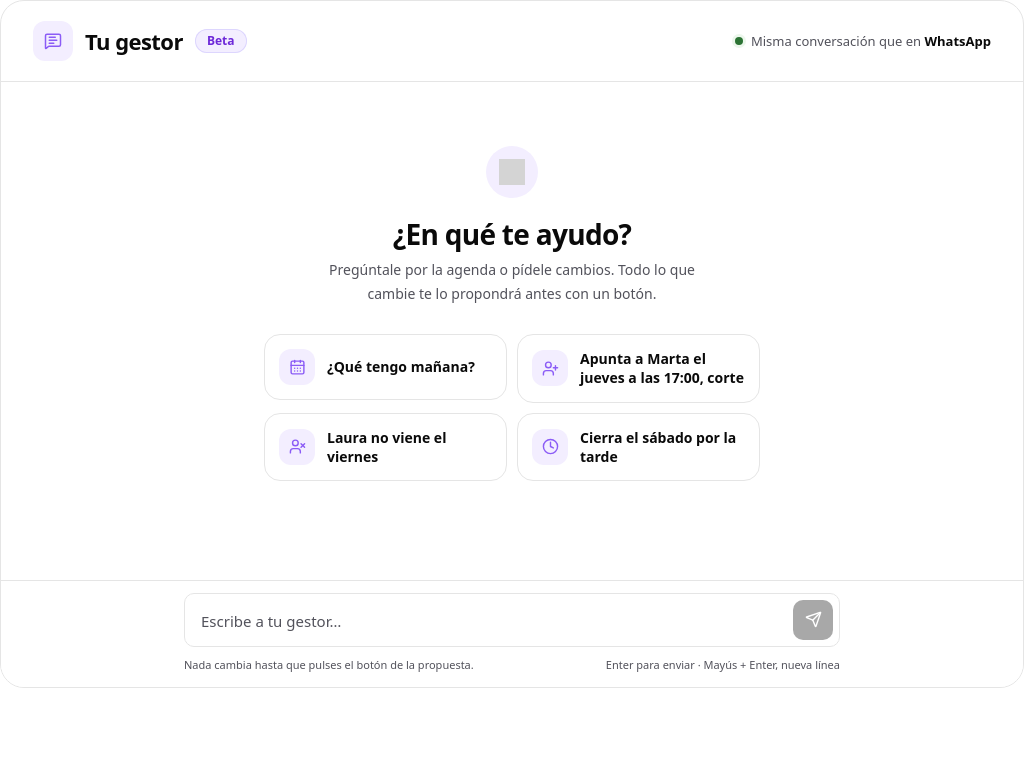
Test: GestorChat › enviar un mensaje añade la burbuja, muestra la respuesta y la propuesta; el botón la decide y añade el seguimiento
Type "cierra el viernes" into the text box named "Mensaje para tu gestor" at x=493, y=621, box left=201, top=603, right=785, bottom=640
Then press Enter
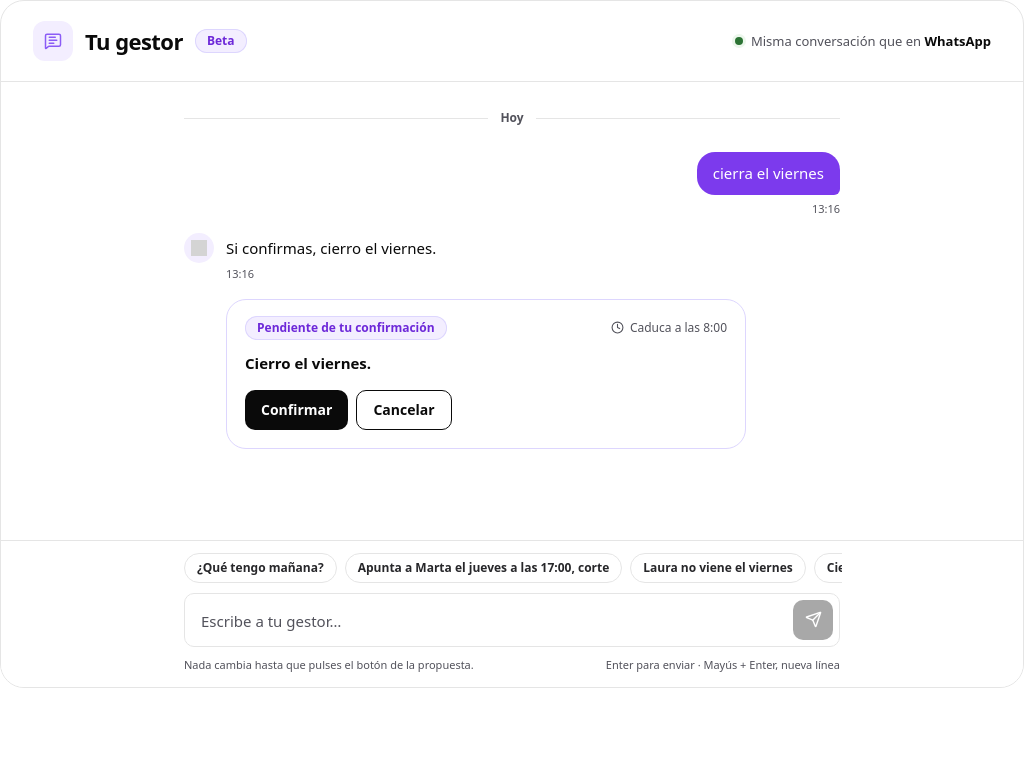
Now the text "cierra el viernes" is shown, box left=697, top=152, right=840, bottom=194
Now the text "Si confirmas, cierro el viernes." is shown, box left=226, top=233, right=436, bottom=260
Click the button "Confirmar" at x=297, y=410, box left=245, top=390, right=348, bottom=430
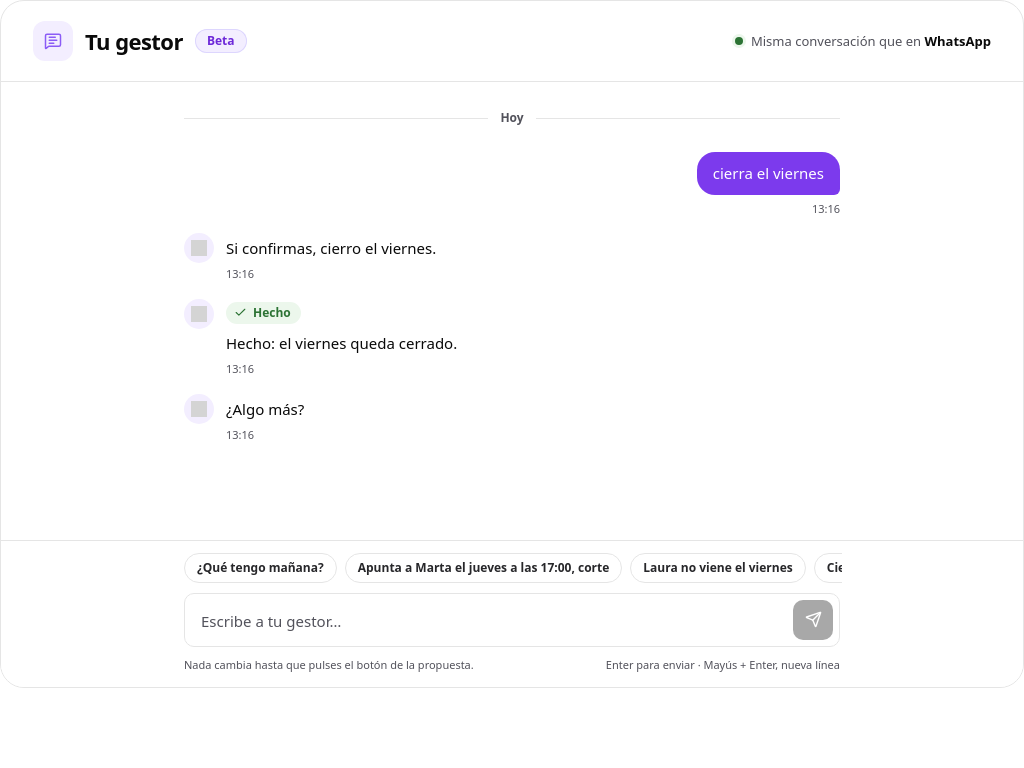
Now the text "Hecho: el viernes queda cerrado." is shown, box left=226, top=328, right=457, bottom=355
Now the text "¿Algo más?" is shown, box left=226, top=394, right=304, bottom=421
Now the text "Hecho" is shown, box left=226, top=302, right=301, bottom=324
